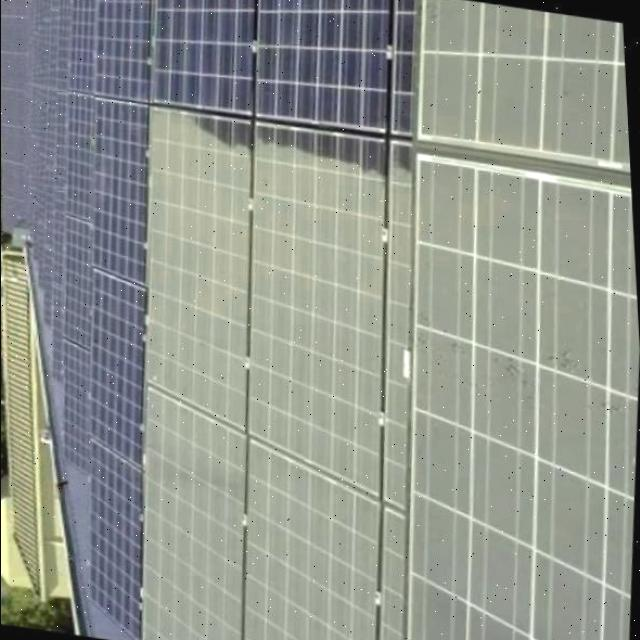Anomaly Solar Panel: (403, 153, 640, 640), (249, 126, 417, 515), (416, 0, 635, 172), (146, 114, 259, 439), (244, 444, 406, 640), (143, 393, 248, 640)
Normal Solar Panel: (261, 0, 425, 140), (153, 0, 264, 121)
Surface Contaminant: (381, 152, 640, 640), (226, 124, 416, 507), (124, 110, 276, 440), (418, 0, 636, 176), (224, 440, 396, 640), (132, 394, 266, 640)
